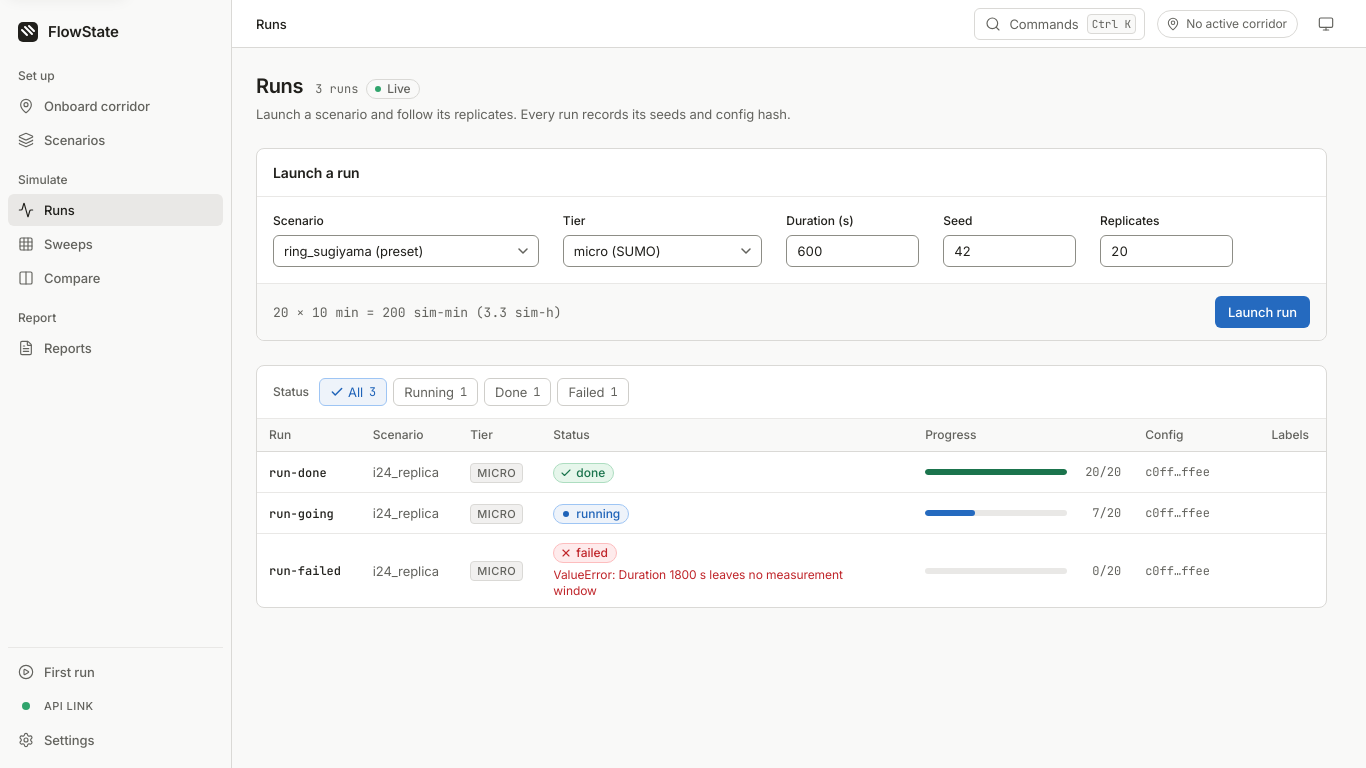
Test: accessibility audit: live API states › Runs: live progress bars, a failure reason and the launch confirmation
Expected: the link "run-going" is shown, [269,506,334,522]
Expected: the progress indicator named "Replicates complete" in the row of "run-done" is shown, [925,469,1067,475]
# the long stored scenario takes the cost gate
Select "i24_replica" in the dropdown labelled "Scenario" at (406, 251), box [273,235,539,267]
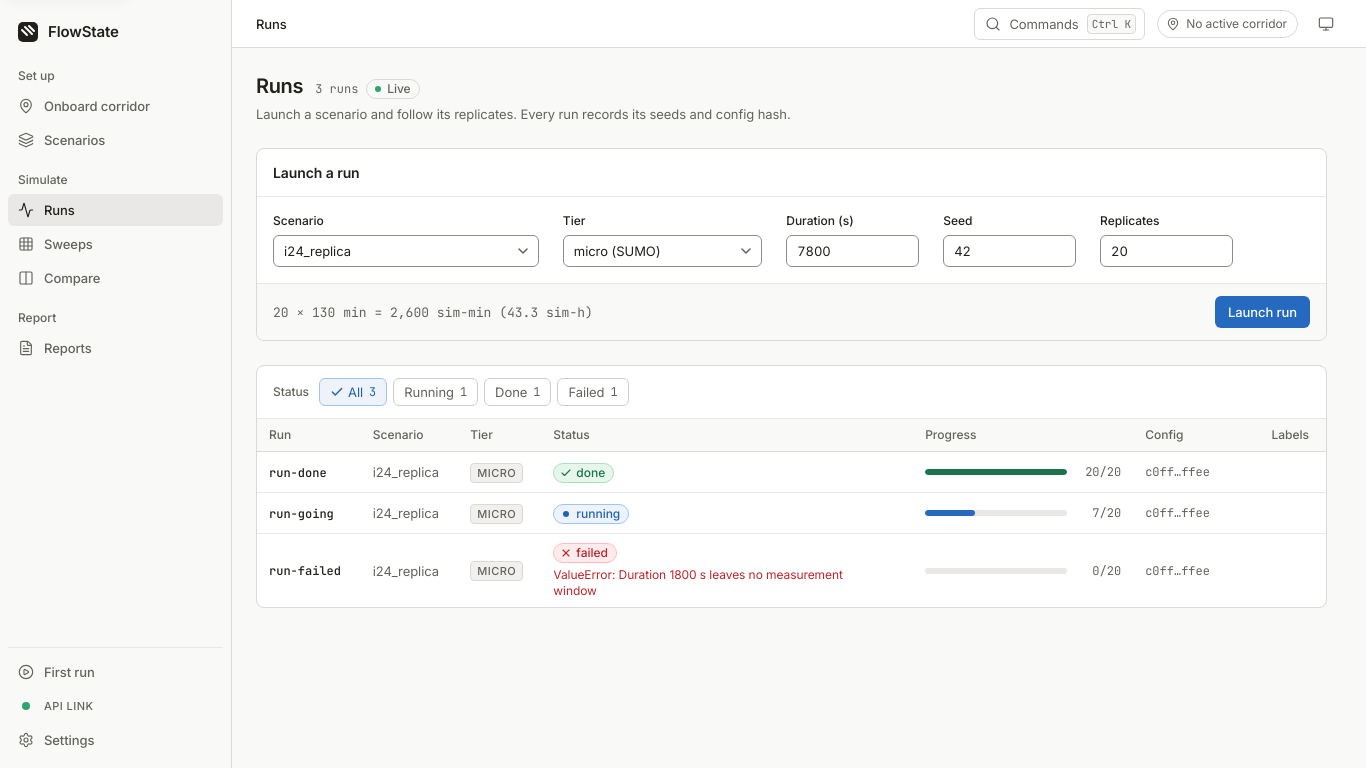
Expected: the number field labelled "Duration (s)" holds "7800", [786,235,919,267]
Click the button "Launch run" at (1262, 312), box [1215,296,1310,328]
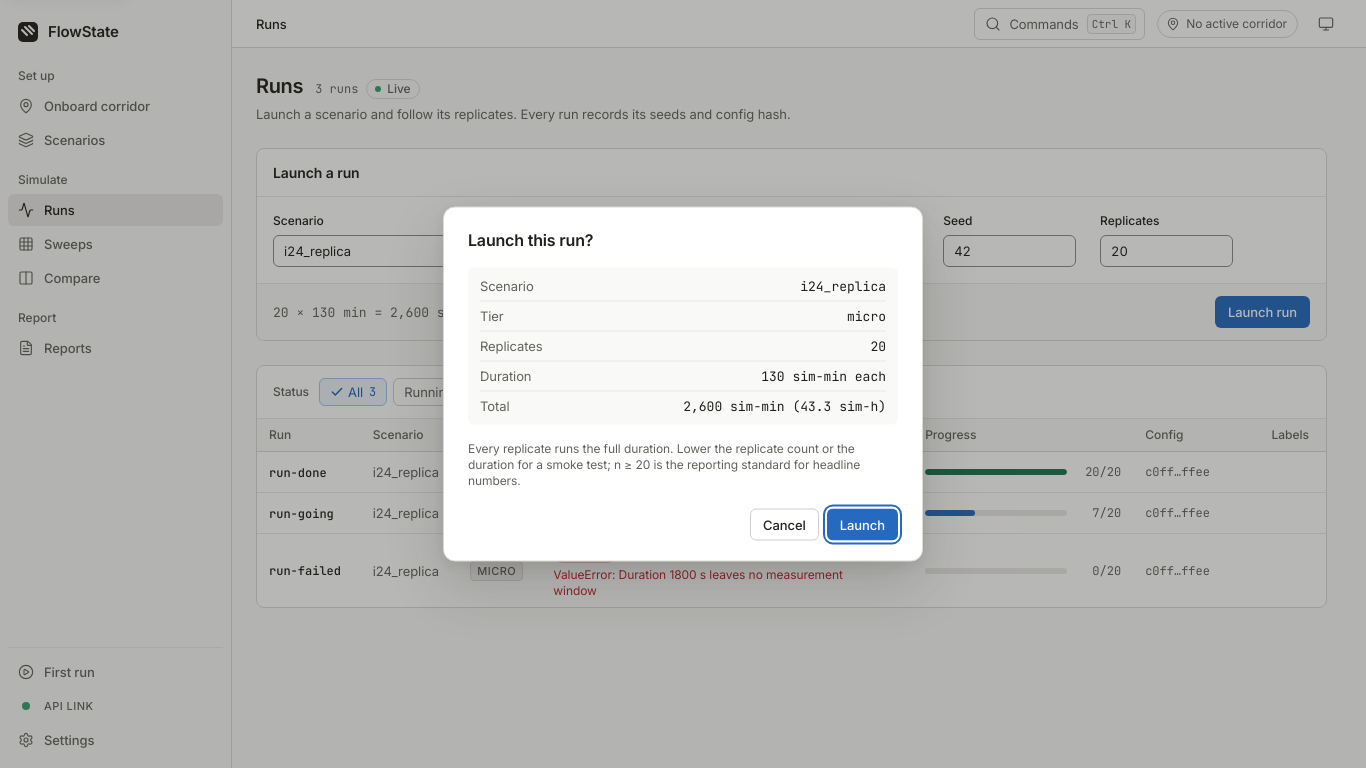
Expected: the dialog "Launch this run?" is shown, [443,206,923,562]
